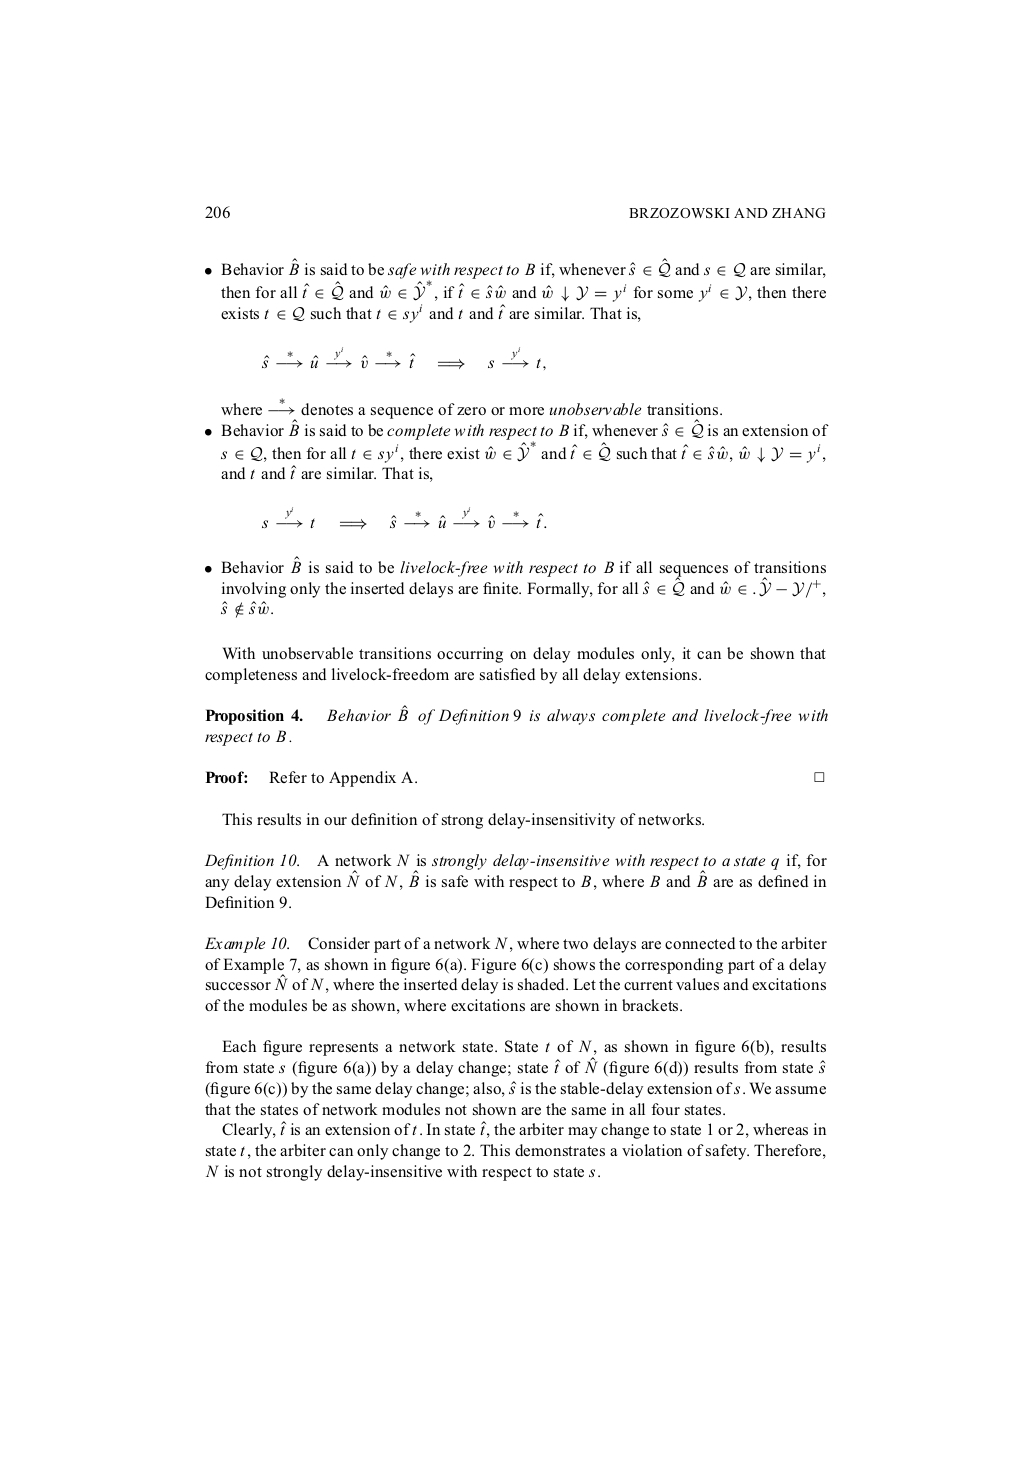formula: (262, 346, 545, 371), (262, 506, 546, 530)
